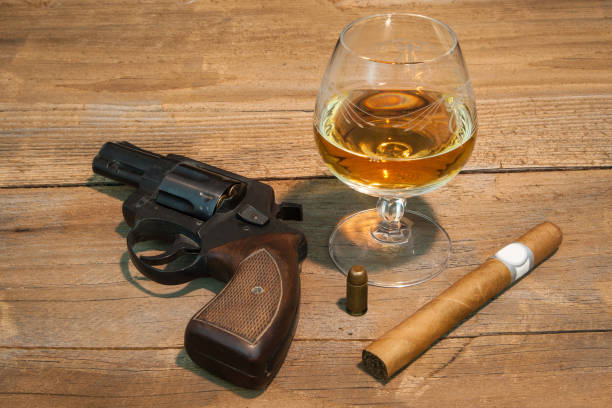alcohol: (312, 10, 478, 290)
cigarette: (357, 220, 562, 385)
gun: (88, 138, 307, 398)
